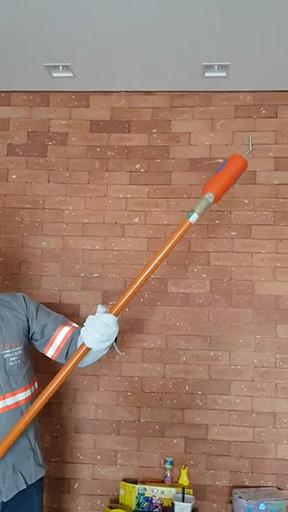Detector_Tensao_Contato: (199, 134, 260, 207)
Vara_Manobra: (1, 201, 211, 452)
